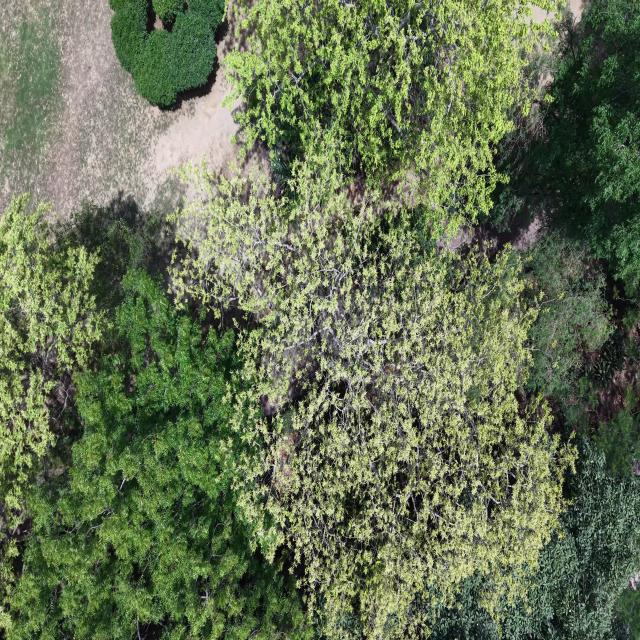DRY_AREA: (0, 0, 236, 217), (447, 211, 544, 253), (569, 0, 584, 24)
VEGETATION_TREE: (0, 0, 639, 639), (175, 168, 572, 638), (0, 198, 311, 638), (7, 270, 308, 639), (225, 0, 546, 233), (497, 0, 639, 492), (0, 196, 164, 593), (493, 0, 639, 429), (429, 440, 639, 639), (0, 196, 104, 589), (503, 0, 639, 290), (540, 0, 639, 286), (524, 232, 613, 398), (56, 197, 174, 313), (110, 0, 225, 106), (0, 3, 61, 185), (595, 392, 640, 477), (616, 584, 639, 638), (152, 0, 184, 23)
